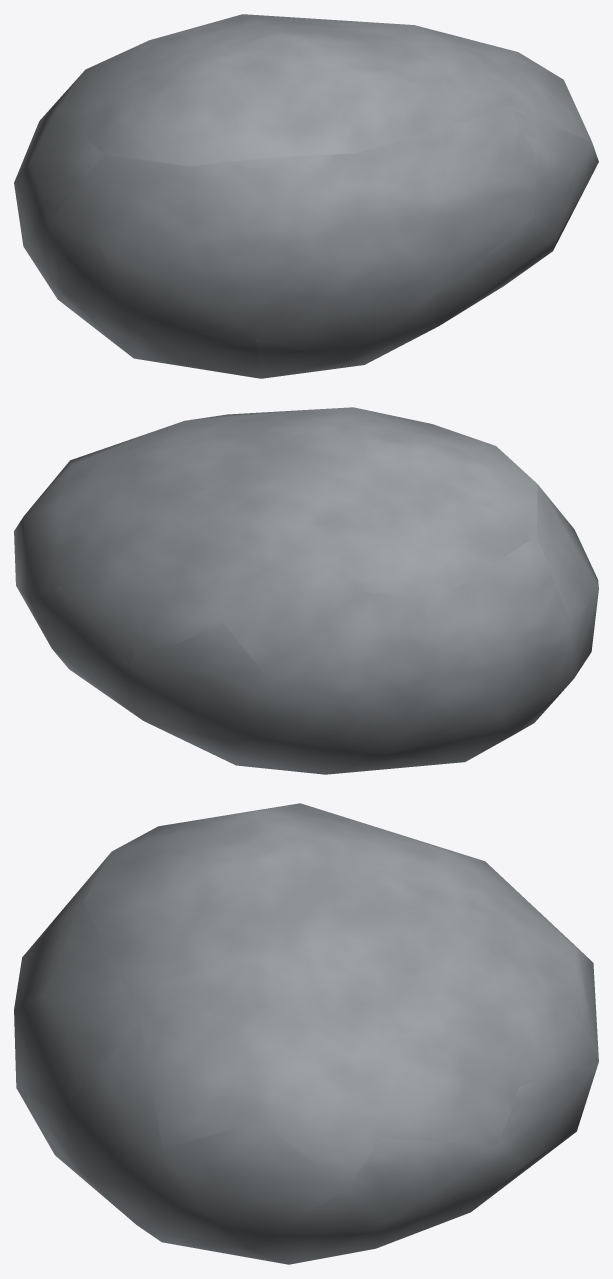
Rendered from rock_a.lo.glb.
3 views of the same model, one above another, from view 1: azimuth 30°, elevation 25°; view 2: azimuth 150°, elevation 25°; view 3: azimuth 270°, elevation 25° (orthographic). The views are drawn at different scales.
Parts seen in each view (by area): view 1: rock; view 2: rock; view 3: rock.
Boxes of the visible parts, x1,y1,x2,y2 form: rock: (14,14,598,378); rock: (14,407,598,774); rock: (14,803,598,1264).
Size of the model in its own units: 3.5 by 1.94 by 2.88.
Materials: 1 (1 with a texture image).
